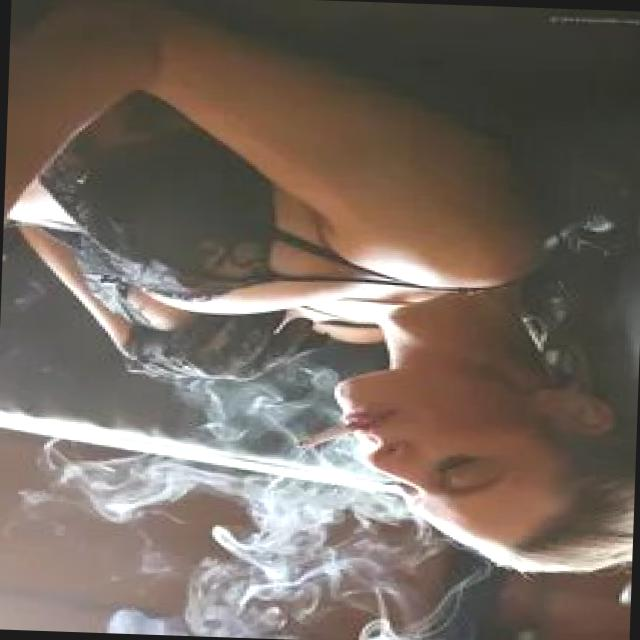cigarette: (286, 409, 378, 462)
